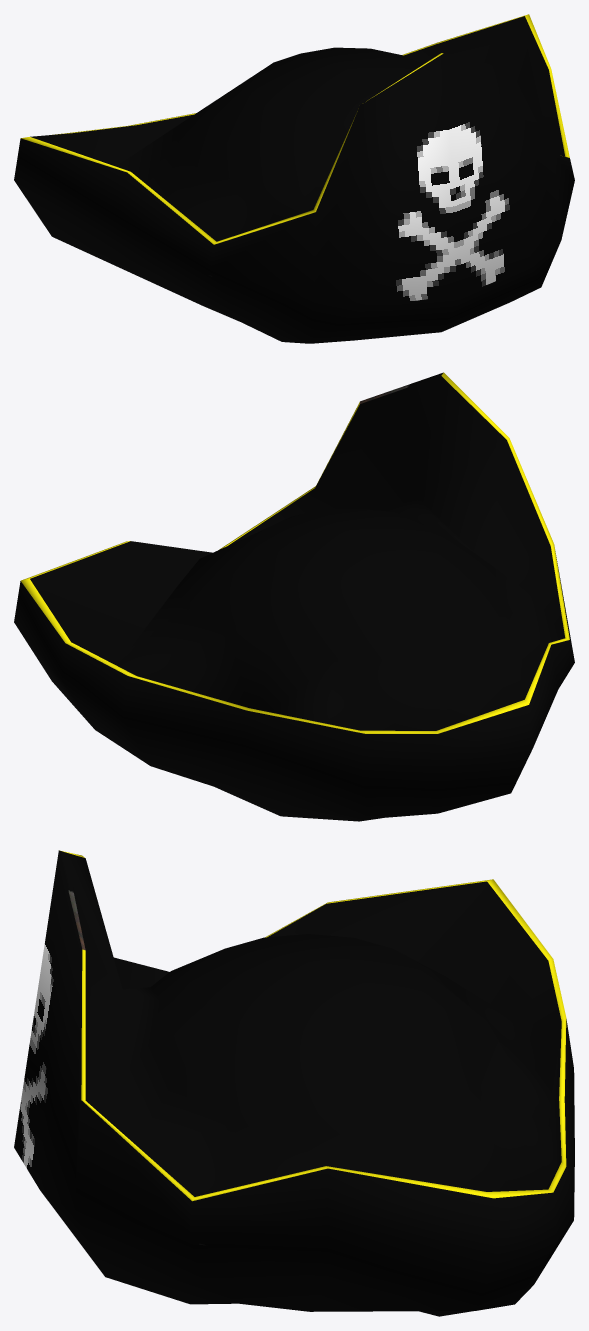
Rendered from piratehat.glb.
The picture shows the model from 3 angles, top to bottom: view 1: azimuth 30°, elevation 25°; view 2: azimuth 150°, elevation 25°; view 3: azimuth 270°, elevation 25°; orthographic projection. The views are drawn at different scales.
Parts seen in each view (by area): view 1: piratehatapplied; view 2: piratehatapplied; view 3: piratehatapplied.
Boxes of the visible parts, x1,y1,x2,y2 form: piratehatapplied: [14, 14, 574, 343]; piratehatapplied: [14, 372, 574, 821]; piratehatapplied: [14, 850, 574, 1316].
Size of the model in its own units: 3.91 by 2.33 by 2.84.
1 material, 1 textured.
